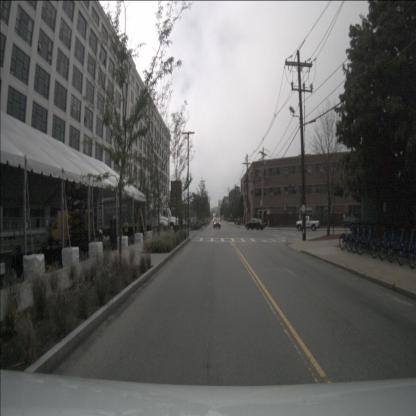human-pedestrian-adult: (48, 223, 53, 250), (124, 218, 128, 241), (97, 229, 103, 241)
vehicle-car: (245, 218, 266, 230), (341, 216, 358, 228), (182, 218, 197, 230), (214, 218, 221, 228)
vehicle-truck: (102, 195, 170, 233), (130, 195, 180, 233), (296, 216, 320, 231)
